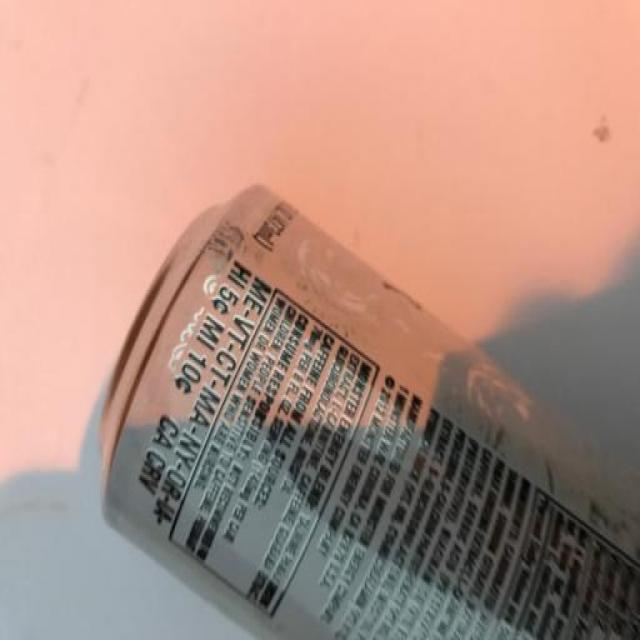metel: (74, 127, 639, 640)
